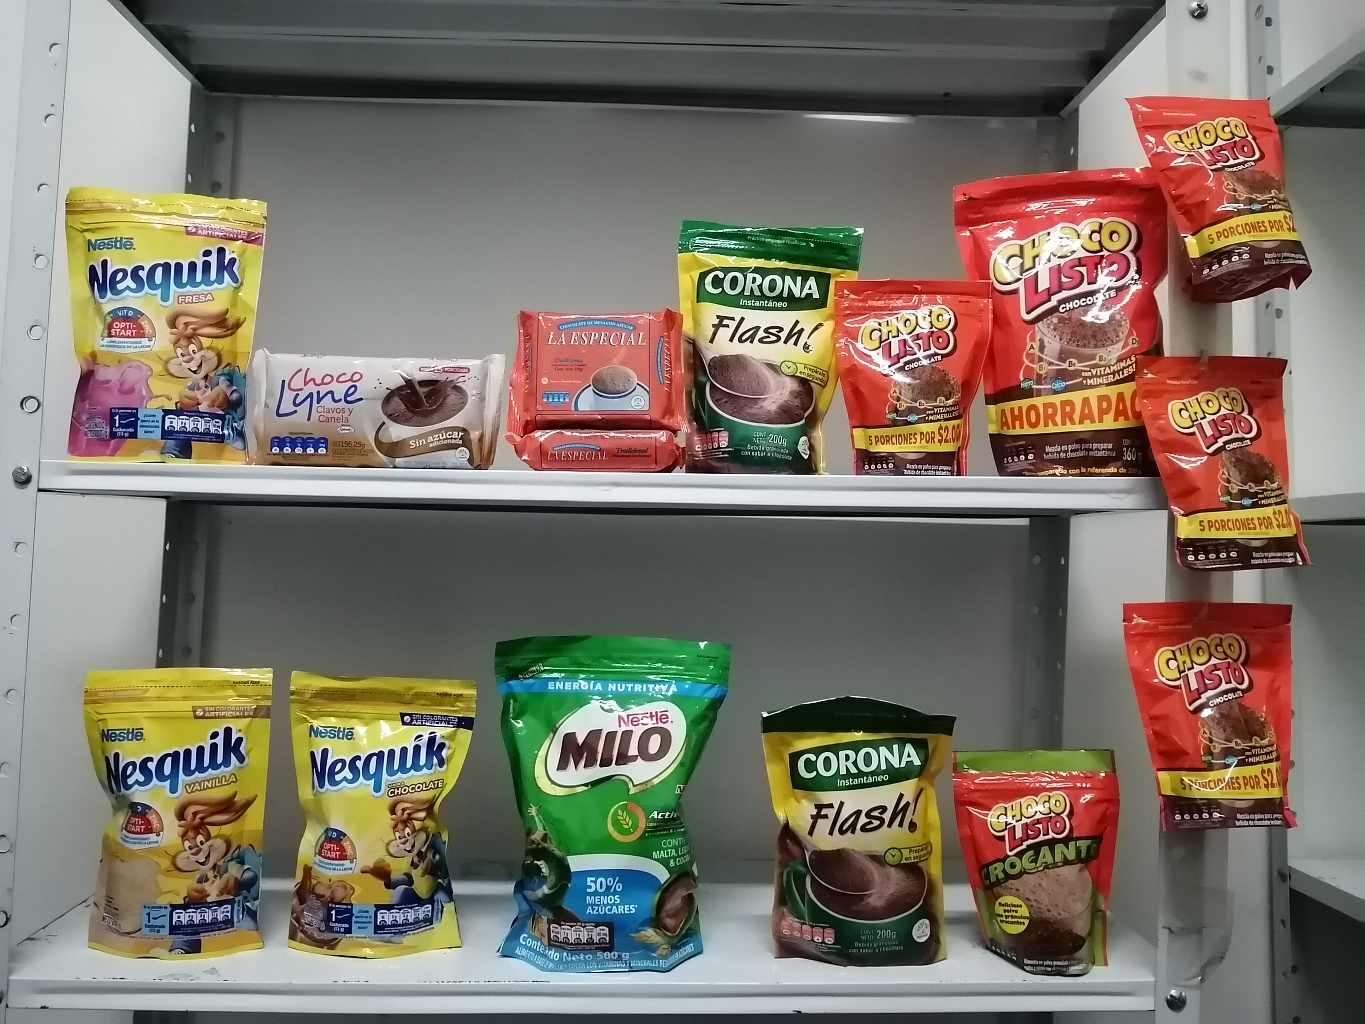COL0170102DYP10000: (948, 739, 1132, 981)
COL0170103DYP10000: (1108, 583, 1305, 836)
COL0170103DYP36000: (954, 161, 1174, 478)
COL0170205DYP50000: (492, 627, 739, 982)
COL0170303DYP20000: (280, 657, 483, 969)
COL0170305DYP20000: (48, 169, 261, 468)
COL0170306DYP20000: (52, 649, 290, 970)
